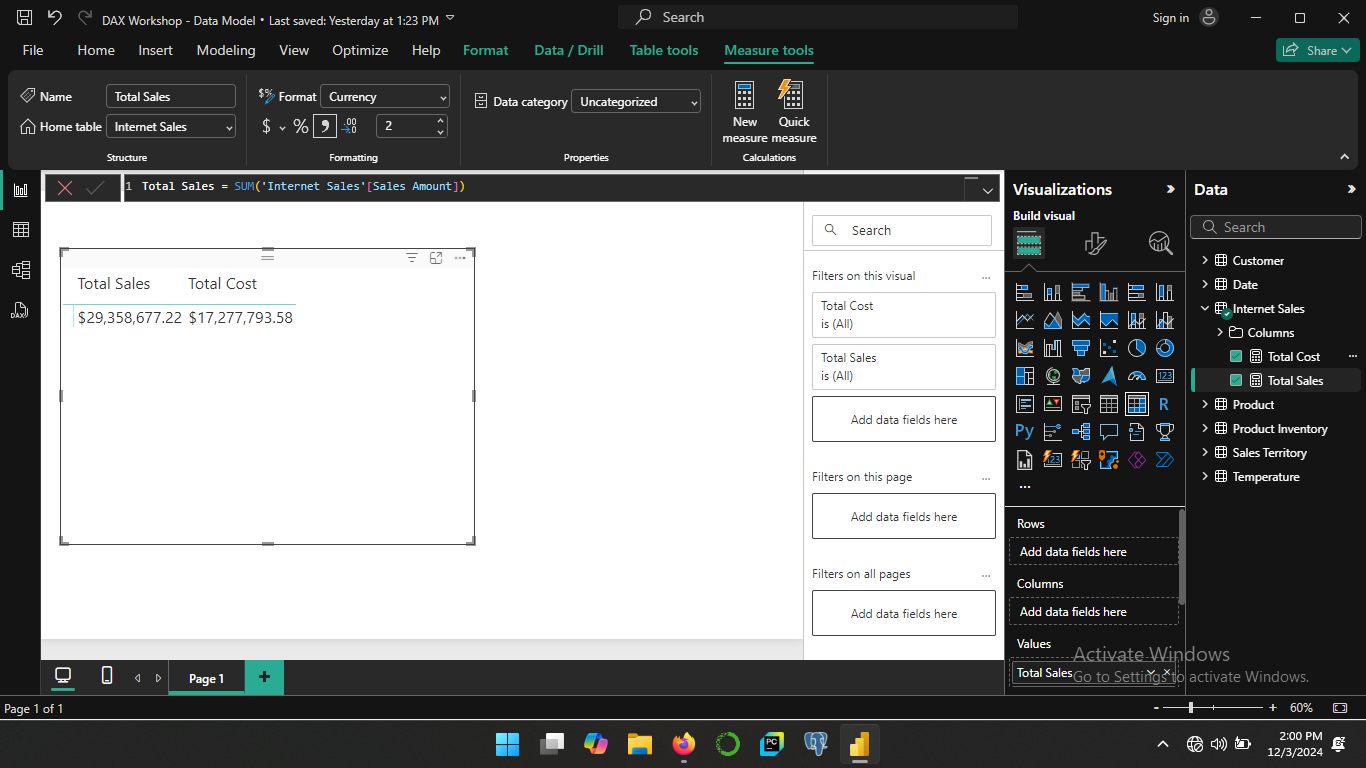

The page's visual inventory and layout, read from the dashboard file:
{"tool":"powerbi","page":{"name":"Page 1","canvas":[1280,720],"ordinal":0},"visuals":[{"type":"pivotTable","fields":{"Values":["Internet Sales.Total Sales","Internet Sales.Total Cost","Internet Sales.Profit","Internet Sales.Profit Margin","Internet Sales.Total Sales(all countries excluding na)"],"Rows":["Sales Territory.Sales Territory Country"]},"box":[0,77.3,883.6,465.3],"z":1}]}

Visuals, with their boxes on the page's 1280x720 design canvas (x1, y1, x2, y2). These are canvas units, not pixel positions in the 1366x768 screenshot, which may show the page scaled, cropped or inside an application window:
pivotTable - Internet Sales.Total Sales x Internet Sales.Total Cost: (left=0, top=77, right=884, bottom=543)
